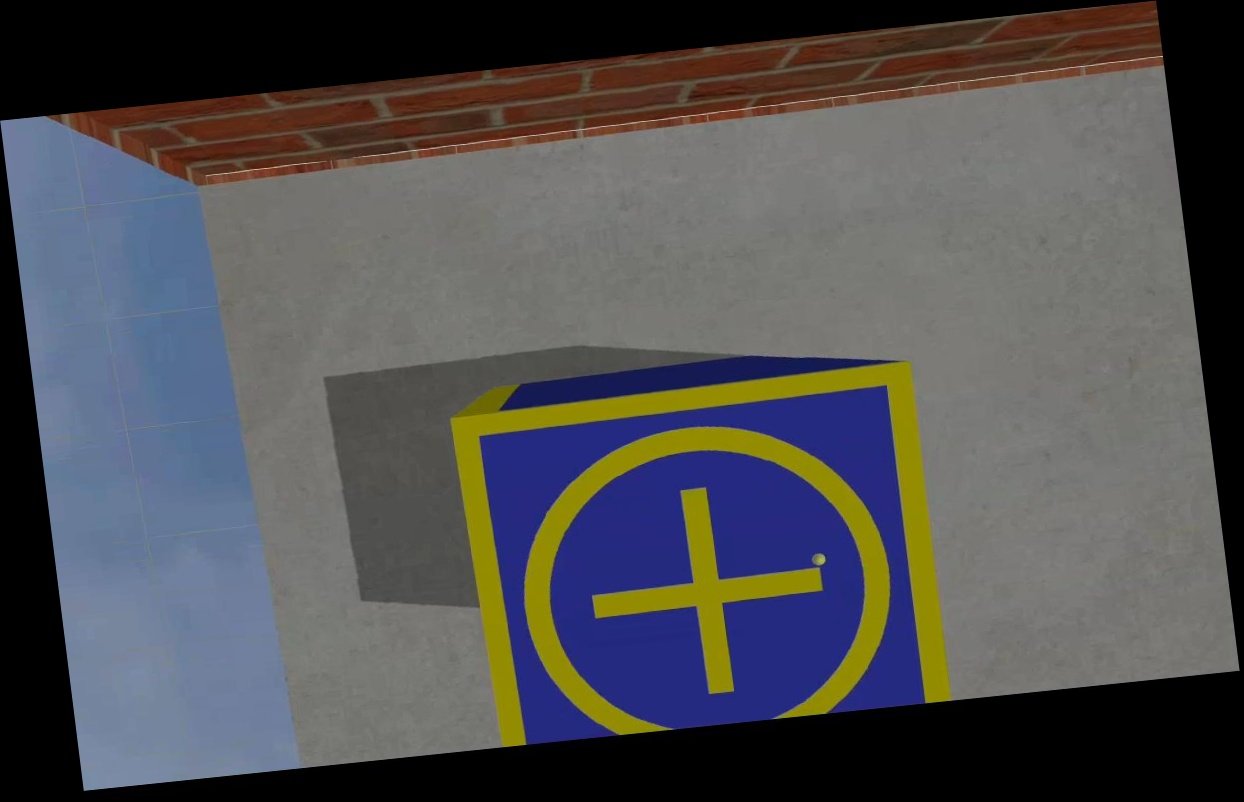small_base: (447, 358, 950, 748)
